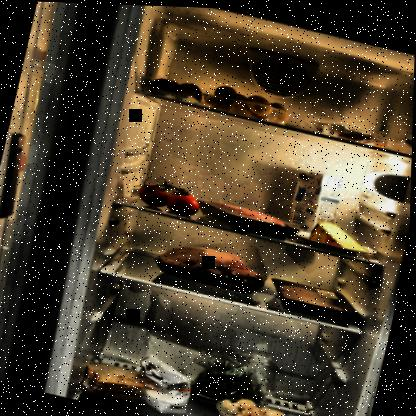cheese: (310, 216, 376, 254)
chicken: (154, 234, 272, 296), (278, 279, 356, 318)
eggs: (148, 71, 204, 103)
green_beans: (187, 352, 281, 415)
ground_beef: (202, 196, 294, 237)
milk: (286, 163, 345, 240)
mushrooms: (216, 390, 292, 415)
potato: (200, 79, 291, 124)
shrimp: (315, 117, 396, 149)
tomato: (131, 172, 205, 217)
